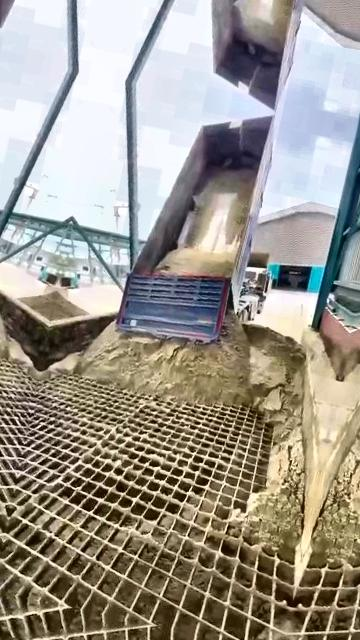sand: (81, 313, 304, 550), (155, 169, 255, 276), (50, 291, 84, 320), (47, 353, 80, 373)
